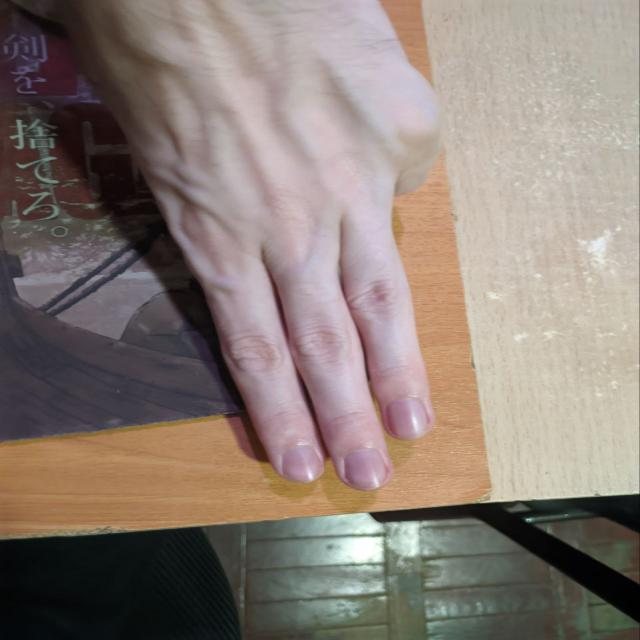t: (78, 35, 523, 503)
